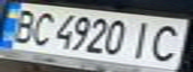0: (103, 16, 133, 57)
2: (87, 15, 112, 56)
4: (48, 11, 75, 52)
9: (69, 12, 93, 53)
B: (3, 7, 42, 44)
C: (142, 20, 193, 64), (24, 9, 60, 47)
I: (124, 19, 163, 61)
